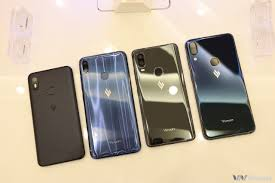vsmart: (184, 28, 258, 141), (69, 49, 142, 159), (123, 41, 194, 149), (27, 62, 85, 166)
